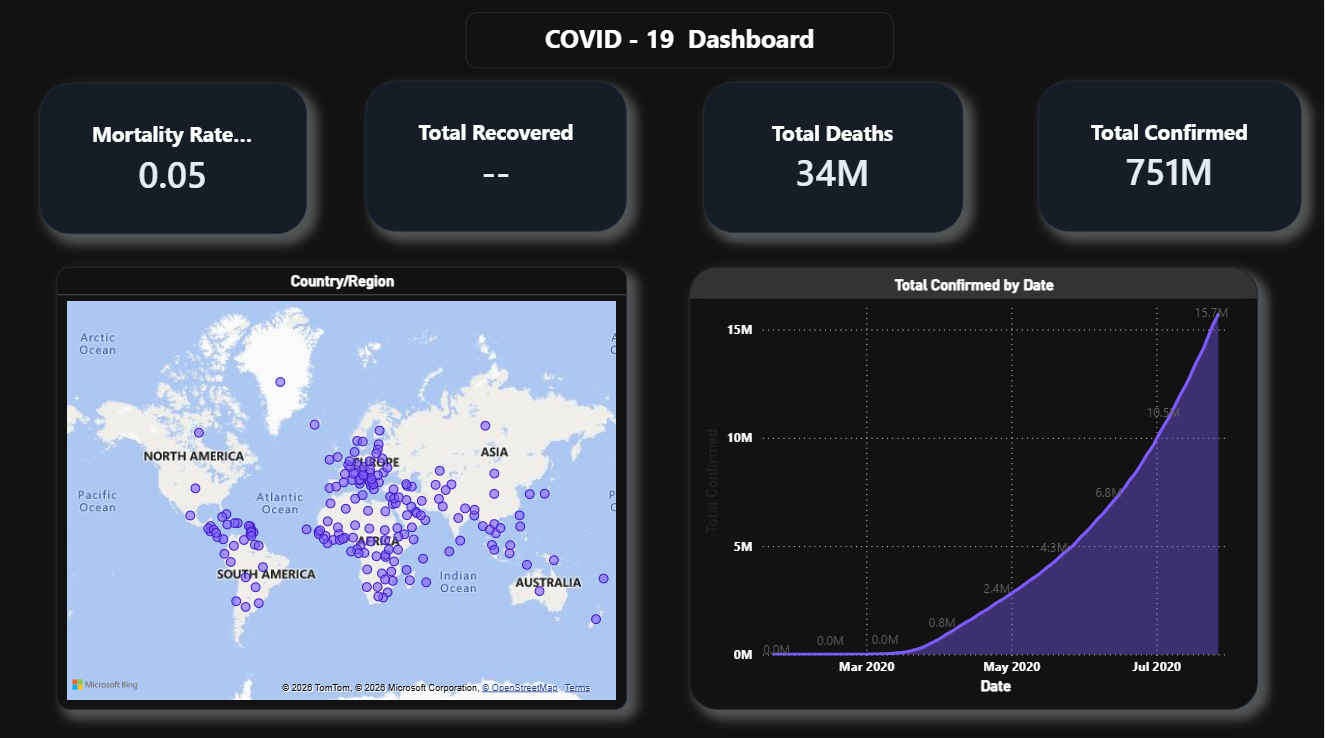

The page's visual inventory and layout, read from the dashboard file:
{"tool":"powerbi","page":{"name":"Page 1","canvas":[1280,720],"ordinal":0},"visuals":[{"type":"cardVisual","fields":{"Data":["covid_19_clean_complete.Mortality Rate %"]},"box":[39.8,83.2,258.2,146],"z":0},{"type":"cardVisual","fields":{"Data":["covid_19_clean_complete.Total Confirmed"]},"box":[1003.8,80.8,254.6,146],"z":1000},{"type":"cardVisual","fields":{"Data":["covid_19_clean_complete.Total Deaths"]},"box":[680.4,82,250.9,146],"z":2000},{"type":"cardVisual","fields":{"Data":["covid_19_clean_complete.Total Recovered"]},"box":[354.7,80.8,252.1,146],"z":3000},{"type":"lineChart","fields":{"Category":["covid_19_clean_complete.Date"],"Y":["covid_19_clean_complete.Total Confirmed"]},"box":[667.2,260.6,548.9,427.1],"z":4000},{"type":"map","fields":{"Category":["covid_19_clean_complete.Country/Region"]},"box":[56.7,260.6,550.1,427.1],"z":5000},{"type":"textbox","box":[451.2,14.5,413.8,54.3],"z":6000}]}

Visuals, with their boxes in screenshot pixels (x1, y1, x2, y2), scaled from the page's 1280x720 canvas onto the 1325x738 screenshot:
cardVisual - covid_19_clean_complete.Mortality Rate %: BBox(41, 85, 308, 235)
cardVisual - covid_19_clean_complete.Total Confirmed: BBox(1039, 83, 1303, 232)
cardVisual - covid_19_clean_complete.Total Deaths: BBox(704, 84, 964, 234)
cardVisual - covid_19_clean_complete.Total Recovered: BBox(367, 83, 628, 232)
lineChart - covid_19_clean_complete.Date x covid_19_clean_complete.Total Confirmed: BBox(691, 267, 1259, 705)
map - covid_19_clean_complete.Country/Region: BBox(59, 267, 628, 705)
textbox: BBox(467, 15, 895, 71)
